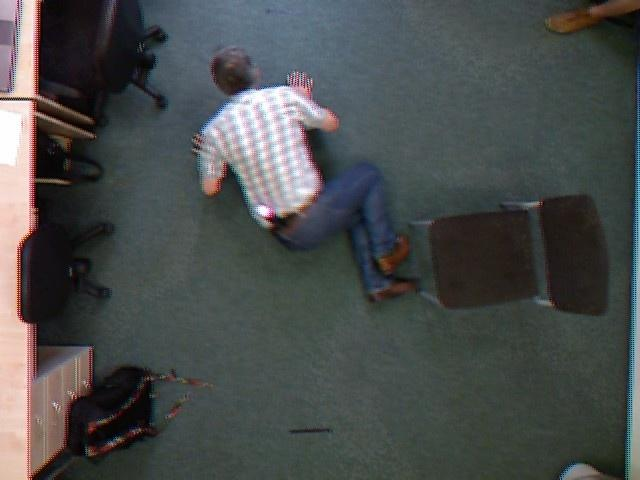fall: (182, 44, 431, 310)
